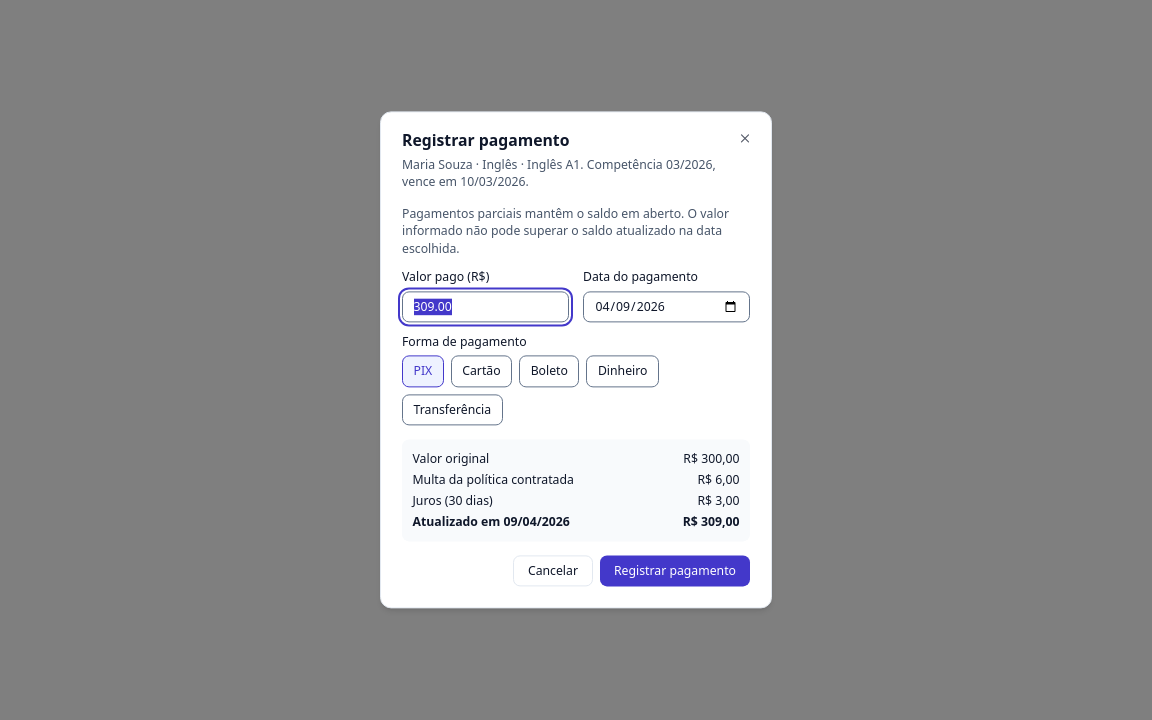
Test: registrar pagamento › valor zero é recusado na tela, ligado ao campo, e nada é enviado
Replace the text in the field labelled "Valor pago (R$)" with "0" at x=486, y=307, box [402,291,569,322]
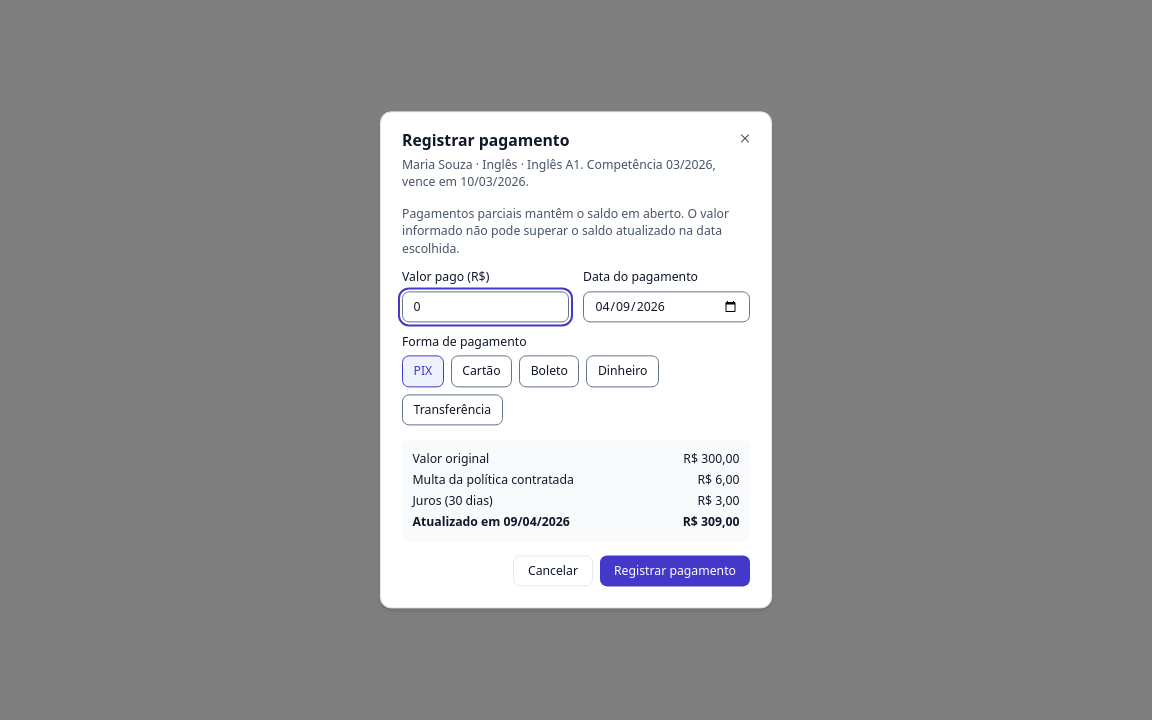
Click the button "Registrar pagamento" at x=675, y=571, box [600,555,750,587]
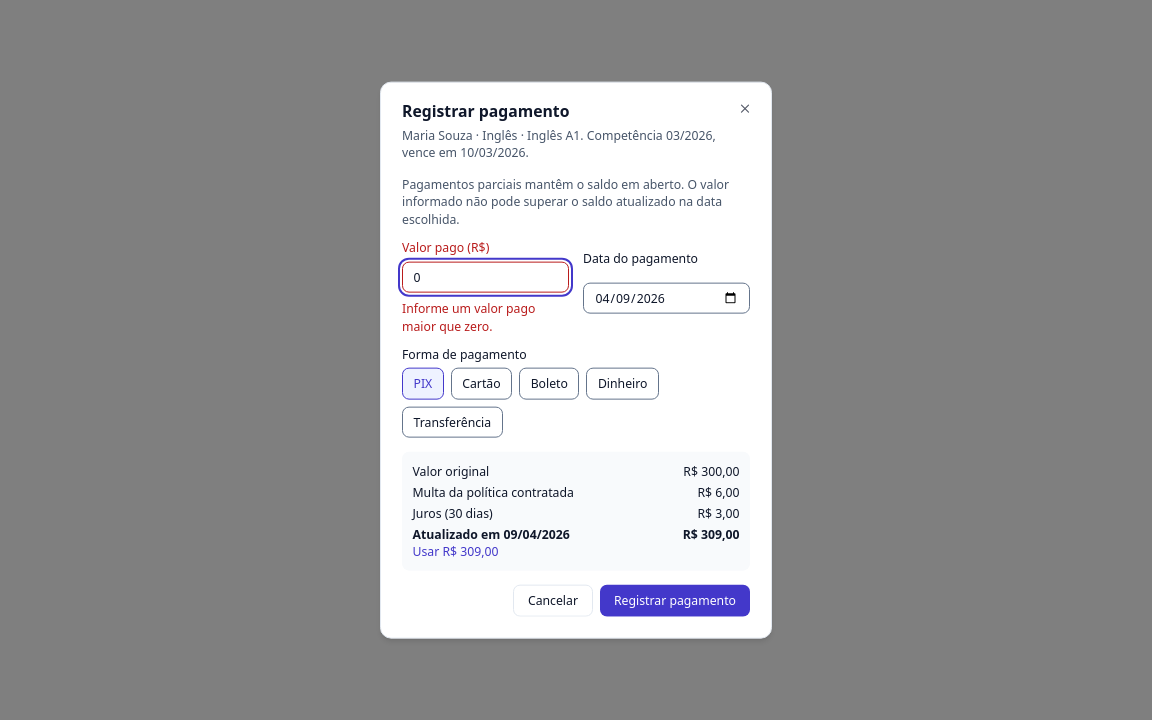
Check: the text "Informe um valor pago maior que zero." is shown, box [402,300,535,334]
